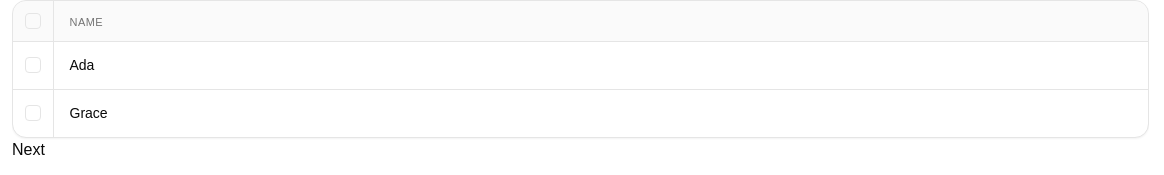
Test: selectionColumn › selects one row, named after it, and marks the row selected
The image size is (1164, 175).
Click the checkbox named "Select Grace".
click(33, 113)  # box [25,105,41,121]
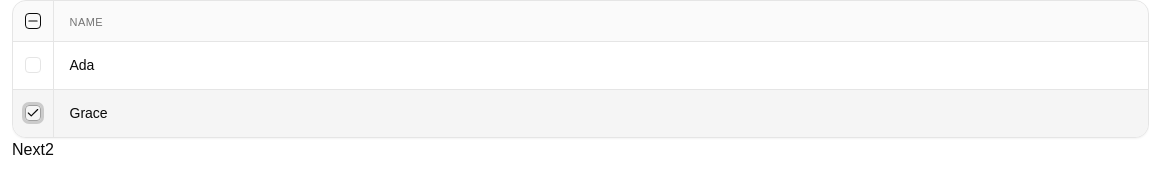
expect the checkbox named "Select Grace" is checked: met, box [25,105,41,121]
expect the text "2" is shown: met, box [45,141,54,158]
